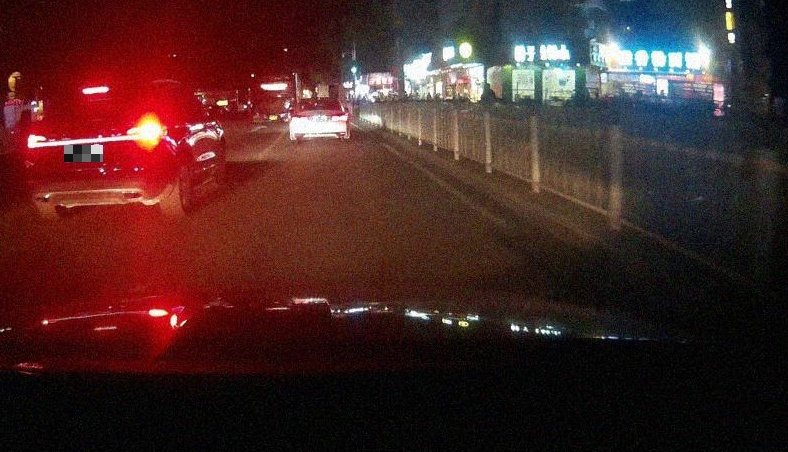L_light: (27, 135, 54, 148), (291, 114, 307, 120)
R_light: (126, 124, 168, 141), (331, 114, 347, 119)
T_light: (82, 86, 110, 94), (313, 99, 322, 102)
night-no: (288, 96, 349, 142)
night-right: (25, 79, 171, 220)
plate_1: (64, 145, 103, 162)
